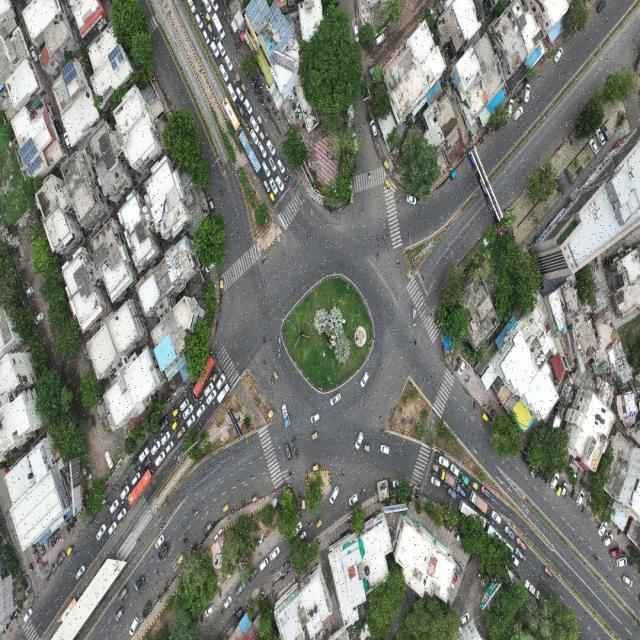3W: (176, 549, 186, 567), (450, 164, 459, 182), (470, 478, 480, 492), (384, 177, 393, 192), (429, 461, 440, 473), (250, 493, 260, 506), (205, 10, 213, 26), (256, 111, 264, 127), (212, 368, 219, 386), (311, 459, 320, 473), (315, 517, 324, 531), (570, 488, 578, 503), (362, 442, 372, 454), (66, 542, 74, 556), (269, 190, 276, 206), (310, 431, 320, 442), (172, 407, 181, 419), (301, 496, 307, 514), (481, 411, 490, 423), (207, 22, 214, 37), (384, 158, 391, 173), (555, 484, 562, 499), (241, 82, 248, 96), (259, 130, 266, 144), (172, 420, 180, 432), (222, 502, 230, 514), (273, 367, 279, 383), (235, 72, 242, 85)
Bus: (126, 463, 155, 508), (192, 351, 217, 400), (238, 129, 263, 177), (485, 520, 514, 561), (55, 591, 83, 630), (458, 497, 486, 533), (221, 93, 241, 134)
Cars: (602, 526, 618, 551), (234, 578, 250, 600), (551, 42, 564, 68), (128, 612, 140, 638), (328, 482, 340, 508), (620, 569, 634, 591), (354, 428, 367, 451), (94, 521, 108, 542), (587, 136, 600, 158), (269, 540, 282, 562), (347, 488, 361, 508), (134, 572, 146, 595), (256, 138, 268, 161), (142, 596, 153, 621), (358, 368, 371, 389), (54, 548, 68, 567), (595, 126, 606, 150), (597, 517, 609, 539), (158, 541, 171, 561), (609, 540, 622, 560), (206, 190, 217, 213), (204, 601, 218, 619), (117, 584, 130, 603), (549, 469, 560, 491), (154, 532, 166, 552), (328, 392, 343, 408), (514, 546, 528, 563), (205, 389, 218, 407), (227, 82, 238, 103), (22, 605, 34, 624), (264, 138, 276, 157), (233, 604, 245, 623), (113, 605, 126, 622), (450, 461, 463, 478), (215, 373, 226, 393), (223, 52, 234, 72), (219, 65, 230, 85), (269, 174, 279, 196), (74, 564, 86, 582), (154, 450, 166, 468), (209, 41, 221, 59), (248, 568, 260, 586), (109, 497, 120, 516), (242, 97, 253, 116), (438, 454, 451, 470), (175, 424, 187, 441), (182, 403, 194, 420), (512, 106, 524, 123), (250, 114, 260, 134), (522, 84, 532, 104), (601, 122, 611, 142), (141, 454, 152, 472), (369, 116, 378, 138), (378, 442, 392, 456), (374, 33, 386, 49), (406, 190, 418, 206), (506, 96, 514, 120), (595, 0, 607, 16), (542, 564, 554, 580), (491, 510, 503, 526), (446, 486, 458, 502), (204, 518, 214, 537), (217, 39, 227, 58), (236, 100, 246, 119), (457, 357, 467, 376), (275, 173, 284, 194), (107, 520, 118, 537), (150, 439, 161, 456), (615, 555, 629, 568), (429, 475, 442, 489), (132, 470, 142, 488), (203, 381, 215, 396), (261, 159, 271, 177), (576, 488, 586, 506), (516, 536, 528, 551), (481, 485, 493, 500), (284, 442, 293, 462), (159, 430, 170, 446), (456, 484, 467, 500), (258, 554, 269, 570), (353, 22, 360, 47), (195, 11, 204, 30), (117, 506, 127, 523), (165, 439, 175, 456), (196, 402, 206, 419), (268, 156, 278, 173), (310, 410, 322, 424), (223, 596, 235, 610), (202, 0, 213, 15), (504, 526, 515, 541), (120, 486, 130, 502), (249, 130, 259, 146), (209, 0, 221, 13), (186, 416, 197, 430), (352, 131, 359, 153), (360, 78, 367, 100), (159, 415, 168, 432), (277, 157, 286, 174), (235, 86, 244, 102), (560, 478, 567, 498), (263, 178, 271, 194), (202, 30, 210, 45)
LCV: (212, 10, 227, 40), (215, 382, 231, 406), (279, 401, 291, 432), (522, 577, 536, 596), (138, 444, 150, 464), (459, 470, 471, 486), (180, 396, 190, 411)
M2W: (366, 166, 371, 182), (28, 561, 34, 573), (292, 450, 301, 458), (380, 426, 387, 436), (233, 598, 240, 608), (240, 497, 247, 507), (218, 34, 224, 45), (232, 77, 238, 88), (395, 258, 401, 269), (592, 553, 599, 562), (193, 509, 200, 518), (106, 499, 112, 509), (477, 136, 483, 146), (341, 466, 346, 478), (220, 608, 226, 618), (156, 591, 162, 601), (382, 232, 387, 243), (110, 483, 116, 492), (218, 187, 224, 196), (164, 577, 170, 586), (188, 543, 194, 552), (191, 504, 197, 513), (51, 562, 56, 572), (218, 308, 223, 318), (203, 20, 208, 30), (276, 117, 281, 127), (387, 28, 392, 38), (481, 134, 486, 144), (489, 405, 494, 415), (288, 468, 293, 478), (155, 567, 160, 577), (32, 549, 39, 556), (124, 478, 130, 486), (199, 394, 205, 402), (278, 334, 282, 346), (435, 450, 441, 458), (308, 520, 314, 528), (298, 489, 302, 501), (182, 536, 188, 544), (36, 556, 41, 565), (73, 515, 78, 524), (115, 483, 120, 492), (200, 12, 205, 21), (245, 111, 250, 120), (503, 119, 508, 128), (413, 337, 418, 346), (262, 335, 266, 346), (118, 506, 124, 513), (119, 500, 125, 507), (152, 437, 159, 443), (167, 421, 173, 428), (211, 368, 217, 375), (207, 351, 213, 358), (210, 34, 216, 41), (620, 552, 627, 558), (489, 519, 495, 526), (290, 436, 296, 443), (52, 536, 56, 546), (71, 518, 75, 528), (172, 416, 177, 424), (208, 376, 213, 384), (161, 85, 166, 93), (260, 125, 264, 135), (265, 129, 269, 139), (288, 175, 292, 185), (581, 504, 585, 514), (361, 488, 366, 496), (123, 473, 129, 479), (194, 397, 200, 403), (187, 390, 193, 396), (190, 383, 196, 389), (201, 5, 205, 14), (253, 88, 257, 97), (246, 123, 250, 132), (376, 233, 379, 245), (473, 400, 476, 412), (492, 409, 496, 418), (625, 545, 631, 551), (628, 556, 632, 565), (292, 446, 298, 452), (253, 83, 260, 88), (265, 95, 270, 102), (267, 98, 272, 105), (248, 122, 253, 129), (518, 92, 523, 99), (440, 450, 445, 457), (230, 507, 235, 514), (58, 532, 61, 543), (271, 376, 274, 387), (278, 347, 281, 358), (72, 551, 76, 559), (126, 494, 130, 502), (134, 464, 138, 472), (138, 463, 142, 471), (284, 181, 288, 189), (284, 176, 288, 184), (543, 474, 547, 482), (160, 431, 166, 436), (178, 412, 183, 418), (191, 394, 197, 399), (263, 358, 266, 368), (214, 34, 219, 40), (234, 47, 239, 53), (318, 225, 323, 231), (522, 524, 527, 530), (431, 471, 437, 476), (200, 0, 204, 7), (227, 13, 231, 20), (260, 82, 264, 89), (263, 106, 267, 113), (67, 525, 70, 534), (69, 521, 72, 530), (286, 174, 289, 183), (522, 454, 525, 463), (542, 471, 545, 480), (546, 476, 549, 485), (251, 81, 256, 86), (487, 514, 492, 519), (121, 484, 125, 490), (256, 86, 260, 92), (261, 100, 265, 106), (273, 111, 277, 117), (518, 98, 522, 104), (524, 456, 527, 464), (526, 458, 529, 466), (532, 464, 535, 472), (51, 541, 54, 548), (56, 535, 58, 545), (197, 402, 202, 406), (258, 92, 263, 96), (267, 106, 269, 116), (465, 485, 470, 489), (441, 482, 445, 487), (433, 458, 438, 462), (271, 106, 274, 112), (270, 114, 272, 122), (461, 483, 465, 487), (458, 477, 461, 482), (257, 98, 263, 100), (539, 471, 541, 477)
Truck: (466, 486, 492, 514), (438, 464, 457, 492)
